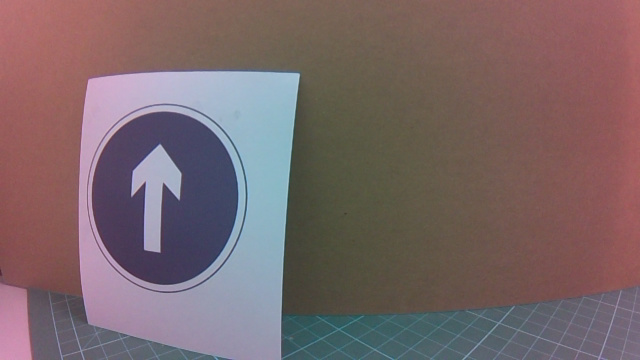forward: (94, 89, 277, 295)
